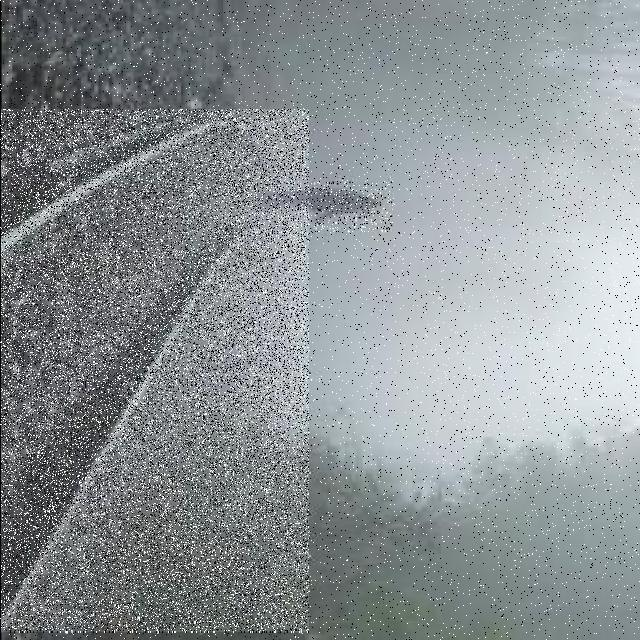rail: (2, 111, 310, 633)
